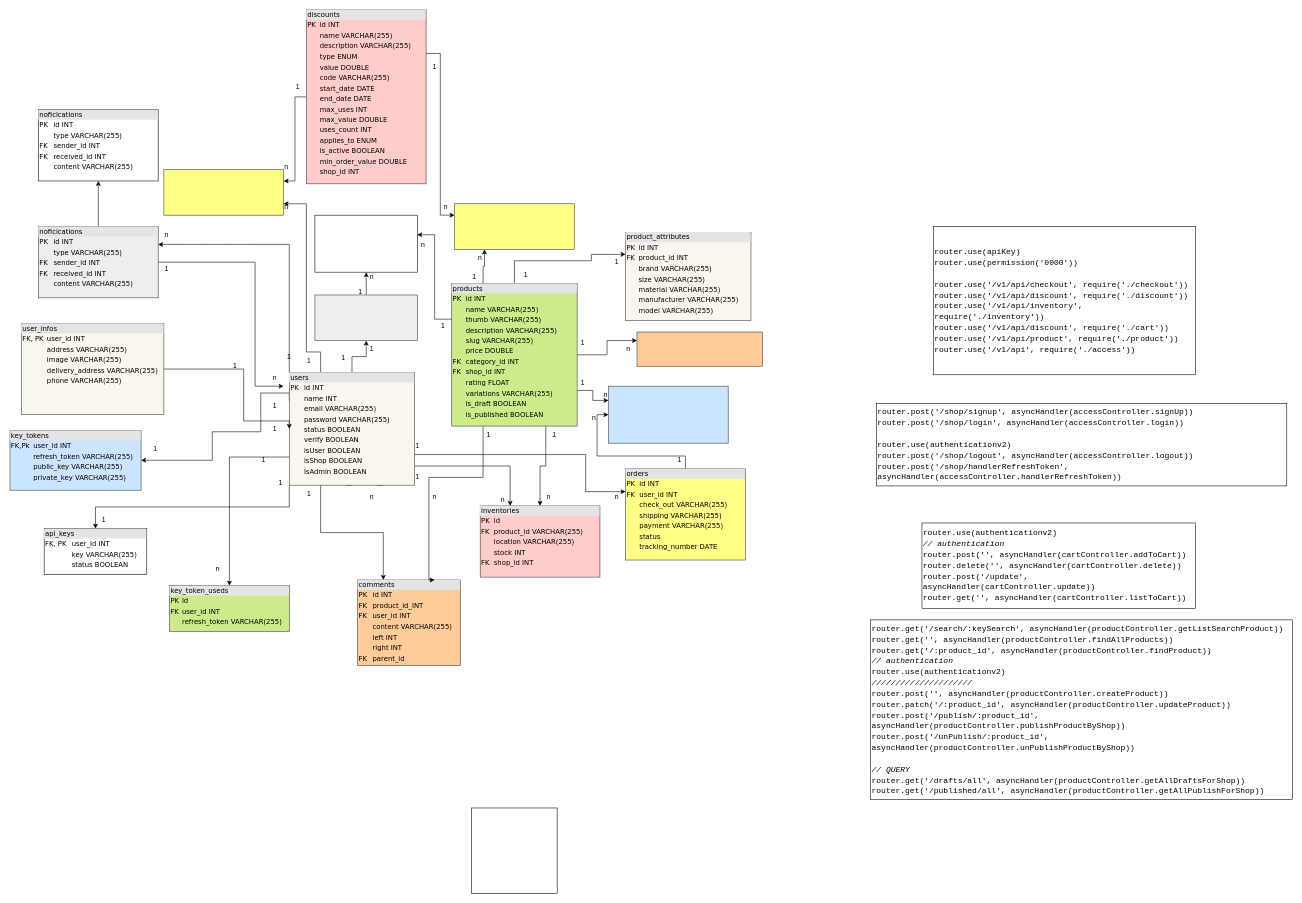
Image size: 1302x903. Some labels were removed from this diagram. Each missing label, with the centre of its shape:
BadRequestError AuthFailureError ForbiddenError NotFoundError CREATED OK: point (514, 850)
cart_items PK id INT FK product_id INT FK cart_id INT quantity INT: point (366, 243)
carts PK id INT state ENUM FK user_id: point (366, 317)
categories PK id INT name VARCHAR(255): point (699, 348)
discounts_products PK id INT FK discount_id INT FK product_id INT: point (514, 226)
discounts_user_useds PK id INT FK discount_id INT FK user_id INT: point (223, 192)
order_details PK id INT FK order_id INT FK product_id INT quantity INT: point (668, 414)
